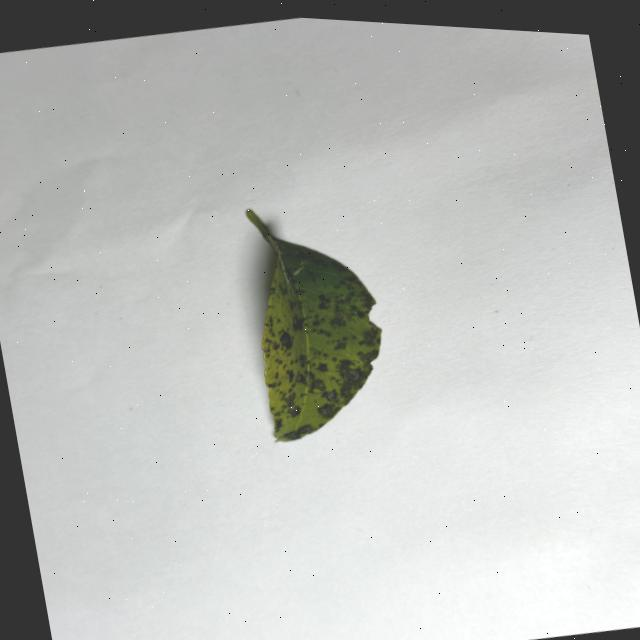sooty_mold: (245, 210, 380, 440)
